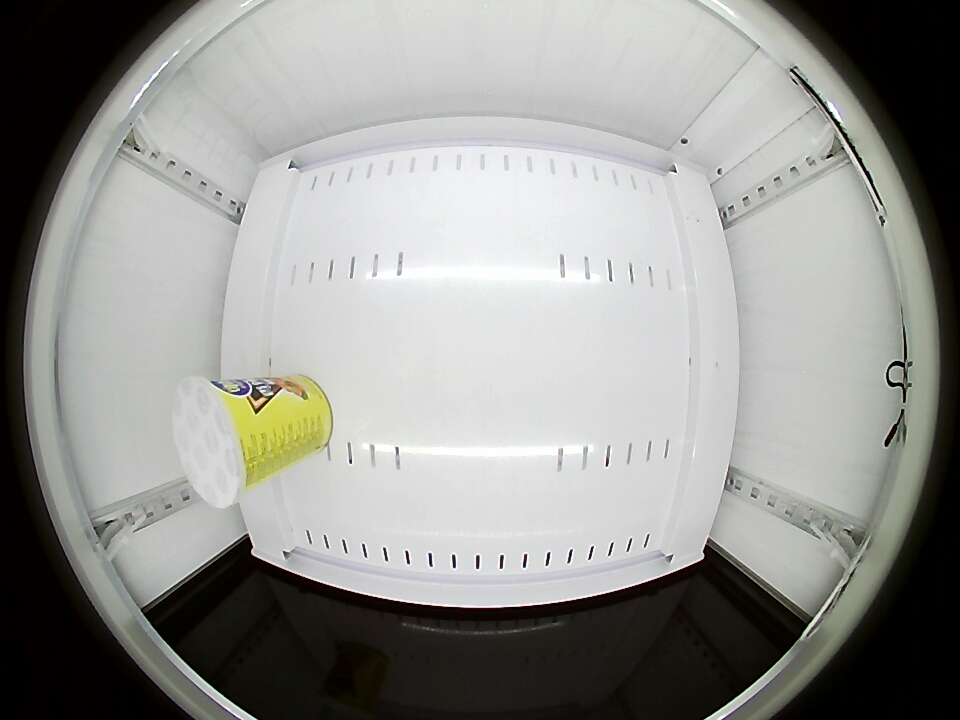kebike: (172, 376, 264, 508)
